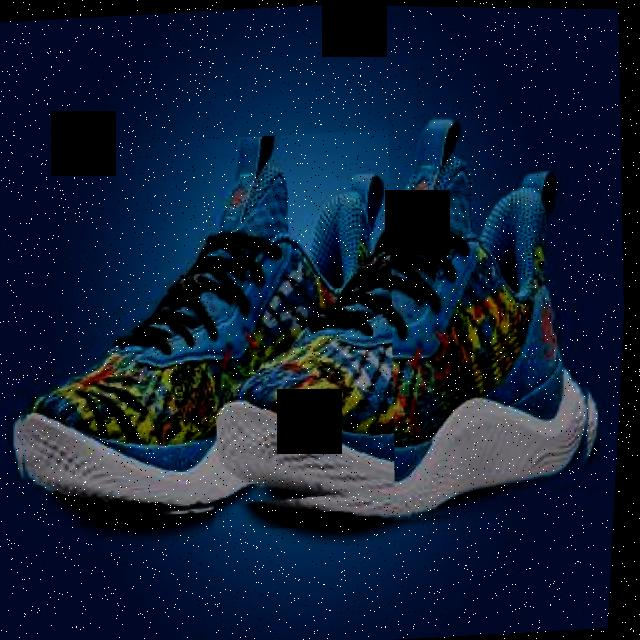shoe: (192, 113, 621, 536), (0, 124, 415, 531)
